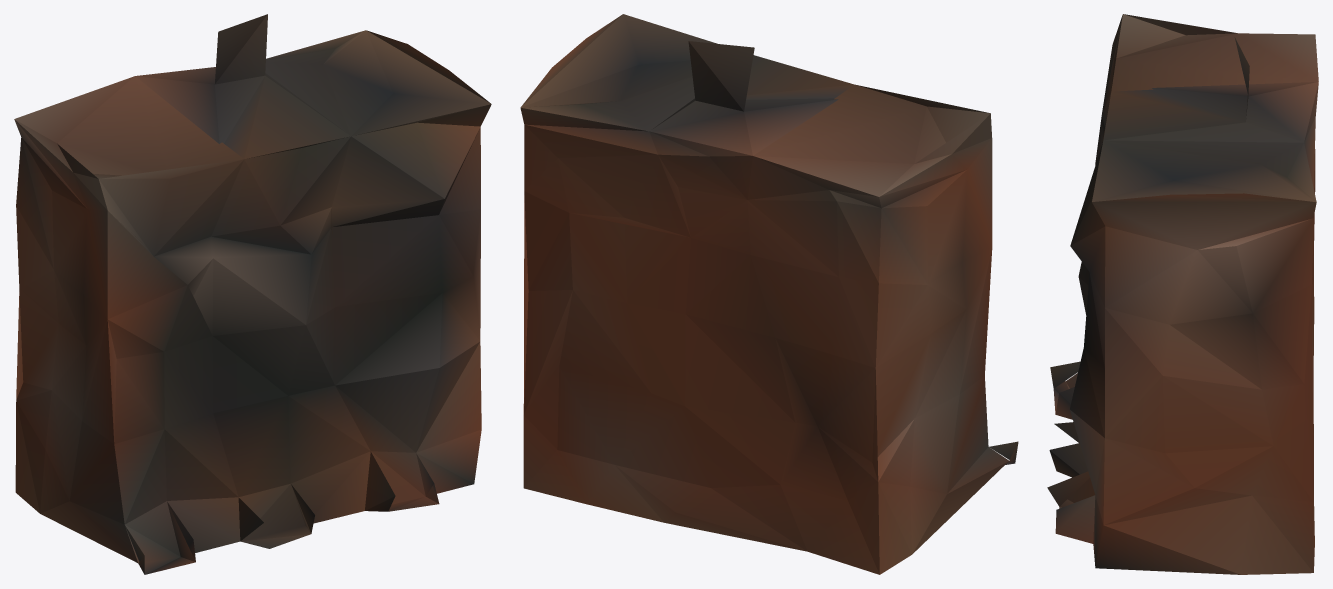
Rendered from city-brownstone.glb.
3 renders of one model, left to right at view 1: azimuth 30°, elevation 25°; view 2: azimuth 150°, elevation 25°; view 3: azimuth 270°, elevation 25°, orthographic. The views are drawn at different scales.
Visible parts, largest first — view 1: city-brownstone-far; view 2: city-brownstone-far; view 3: city-brownstone-far.
Boxes of the visible parts, <box> form: city-brownstone-far: <box>14,14,491,574</box>; city-brownstone-far: <box>520,14,1018,574</box>; city-brownstone-far: <box>1047,14,1318,574</box>.
Bounding box in the file's own units: 13.56 × 15.46 × 8.53.
